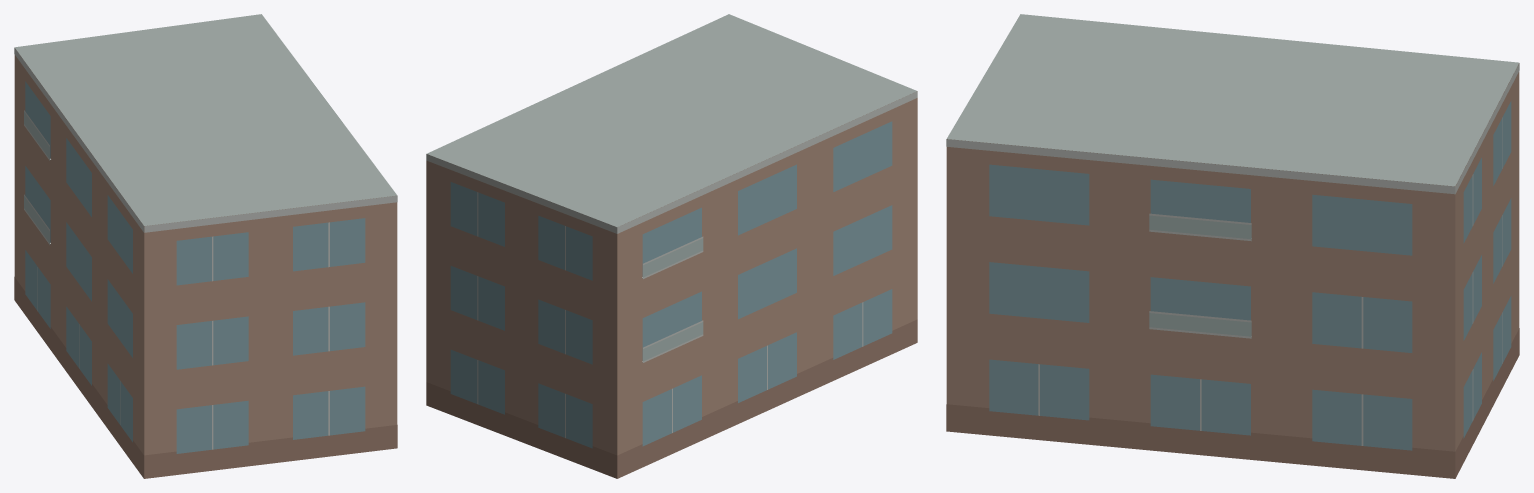
The model's file is survey-upis-32702460.glb.
The picture shows the model from 3 angles, left to right: view 1: azimuth 30°, elevation 25°; view 2: azimuth 150°, elevation 25°; view 3: azimuth 270°, elevation 25°; orthographic projection. The views are drawn at different scales.
Parts seen in each view (by area): view 1: survey-upis-32702460.tmp; view 2: survey-upis-32702460.tmp; view 3: survey-upis-32702460.tmp.
Boxes of the visible parts, box(x1,y1,x2,y2) form: survey-upis-32702460.tmp: box(14, 14, 397, 478); survey-upis-32702460.tmp: box(426, 14, 917, 478); survey-upis-32702460.tmp: box(946, 14, 1519, 478).
Bounding box in the file's own units: 11.58 × 9.15 × 16.26.
